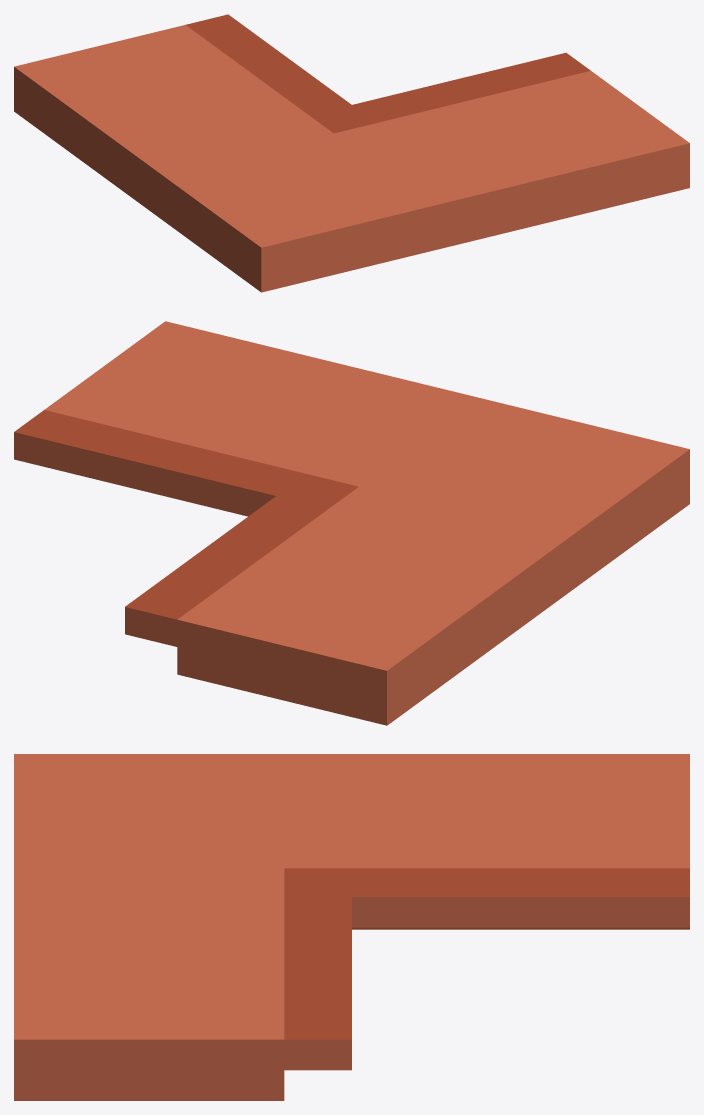
File: desert-floor-corner-inner.glb
3 renders of one model, top to bottom at view 1: azimuth 30°, elevation 25°; view 2: azimuth 150°, elevation 25°; view 3: azimuth 270°, elevation 25°, orthographic. The views are drawn at different scales.
Parts seen in each view (by area): view 1: porch_floorCornerInner; view 2: porch_floorCornerInner; view 3: porch_floorCornerInner.
Boxes of the visible parts, box(x1,y1,x2,y2) form: porch_floorCornerInner: box(14, 14, 689, 292); porch_floorCornerInner: box(14, 321, 689, 725); porch_floorCornerInner: box(14, 754, 689, 1100).
Size of the model in its own units: 1 by 0.1 by 1.
